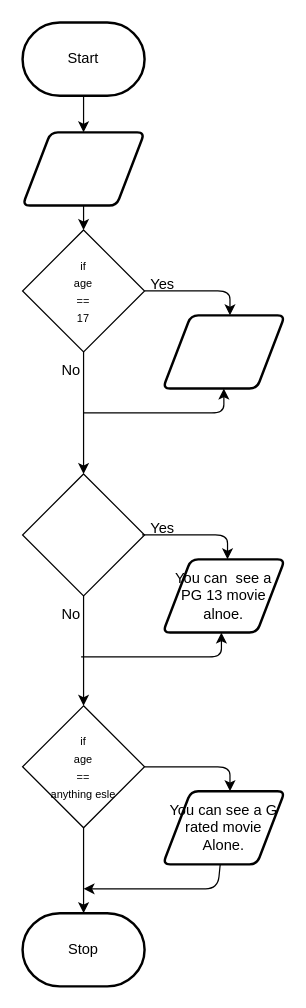
This 306x1008 diagram has some shape labels left out. Each missing label, with the box of its shape:
Get sliderValne: (21, 131, 145, 206)
if age == 13: (21, 473, 145, 596)
You can see a R rated movie alone.: (161, 314, 285, 389)
